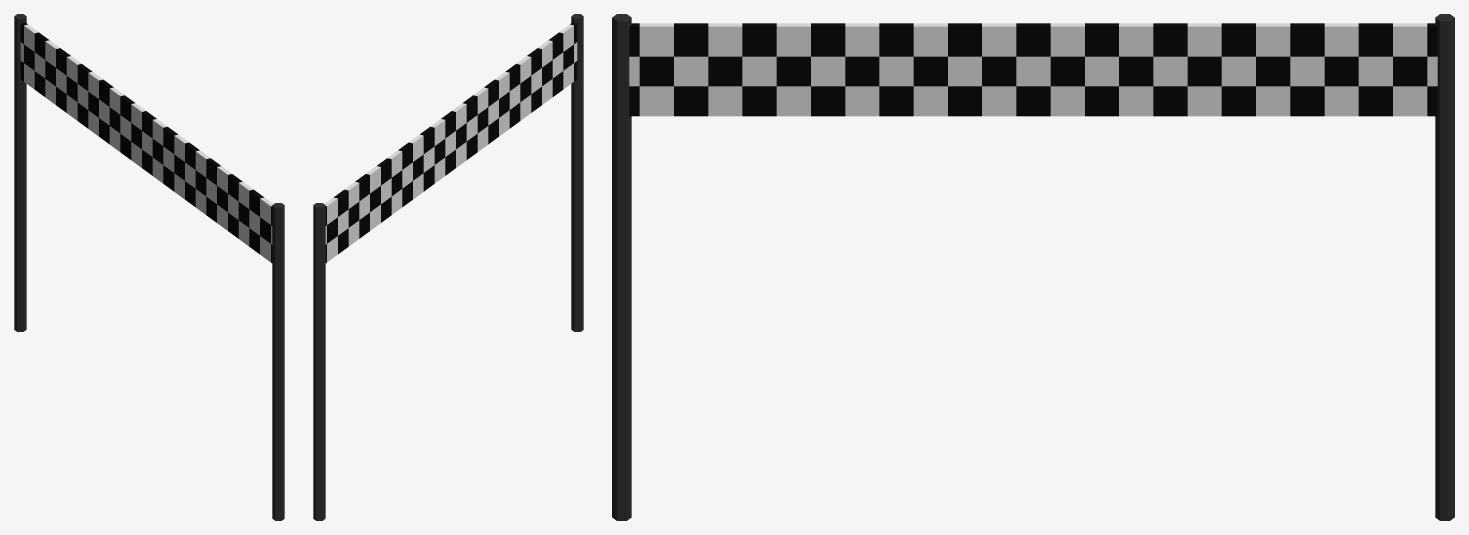
The model's file is SM_Finish_Line.fbx.
3 renders of one model, left to right at view 1: azimuth 30°, elevation 25°; view 2: azimuth 150°, elevation 25°; view 3: azimuth 270°, elevation 25°, orthographic. The views are drawn at different scales.
Parts seen in each view (by area): view 1: SM_Finish_Line; view 2: SM_Finish_Line; view 3: SM_Finish_Line.
Boxes of the visible parts, x1,y1,x2,y2 form: SM_Finish_Line: (14, 14, 284, 520); SM_Finish_Line: (313, 14, 583, 520); SM_Finish_Line: (612, 14, 1454, 520).
Bounding box in the file's own units: 20.65 × 670 × 1024.
